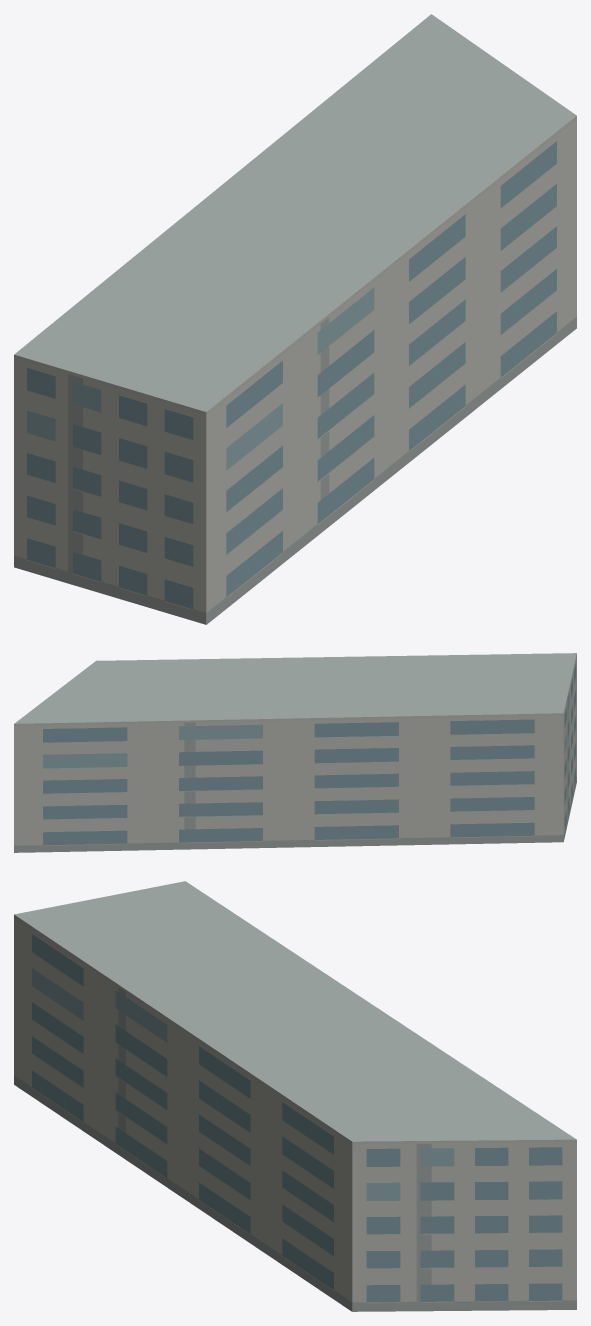
File: residential-0712ec83-0bad-483a-bf77-9bbfac3a652b.glb
3 views of the same model, one above another, from view 1: azimuth 30°, elevation 25°; view 2: azimuth 150°, elevation 25°; view 3: azimuth 270°, elevation 25° (orthographic). The views are drawn at different scales.
Parts seen in each view (by area): view 1: residential-0712ec83-0bad-483a-bf77-9bbfac3a652b.tmp; view 2: residential-0712ec83-0bad-483a-bf77-9bbfac3a652b.tmp; view 3: residential-0712ec83-0bad-483a-bf77-9bbfac3a652b.tmp.
Boxes of the visible parts, <box> form: residential-0712ec83-0bad-483a-bf77-9bbfac3a652b.tmp: <box>14,14,576,624</box>; residential-0712ec83-0bad-483a-bf77-9bbfac3a652b.tmp: <box>14,653,576,852</box>; residential-0712ec83-0bad-483a-bf77-9bbfac3a652b.tmp: <box>14,881,576,1311</box>.
Size of the model in its own units: 50.05 by 15.25 by 45.71.
